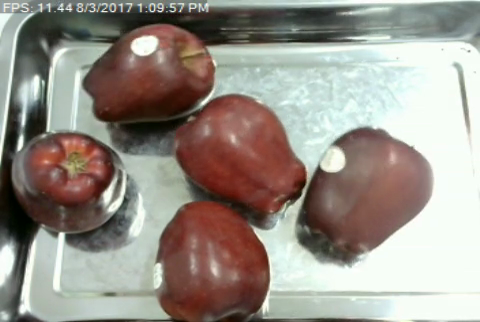Apple: (297, 125, 437, 263), (167, 90, 310, 222), (78, 20, 220, 129), (151, 198, 275, 322), (8, 123, 133, 238)
